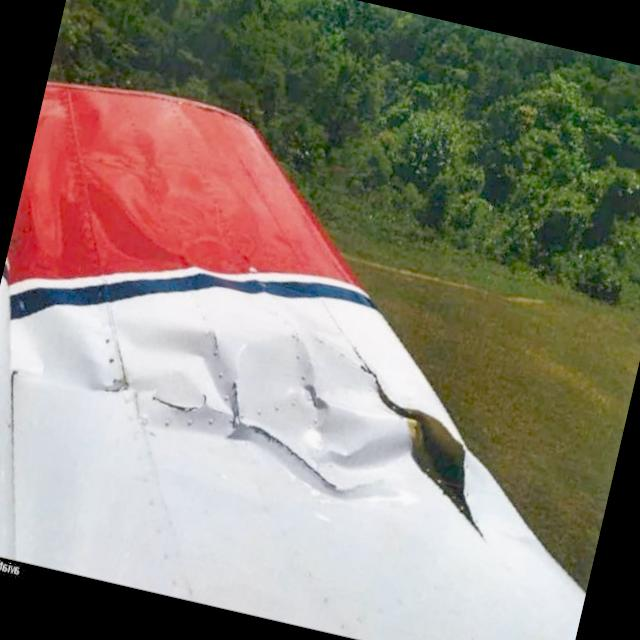crack: (363, 363, 483, 539), (233, 424, 344, 482), (150, 381, 217, 424), (346, 352, 392, 392), (198, 328, 231, 364)
dent: (107, 288, 412, 492), (64, 89, 275, 273), (1, 310, 123, 398)
